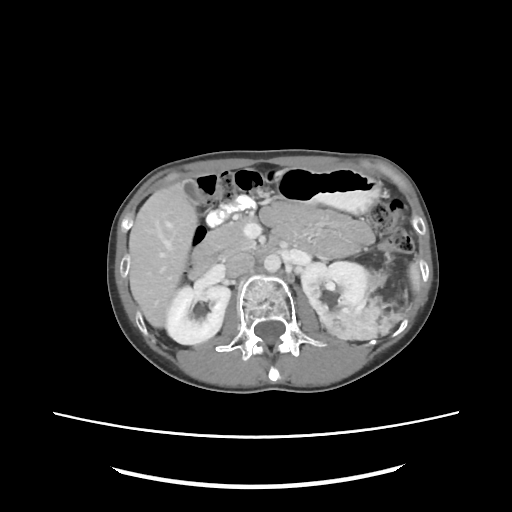Lesion: (322, 258, 408, 340)
